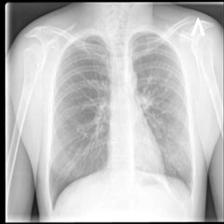tuberculosis: (43, 27, 201, 216)
